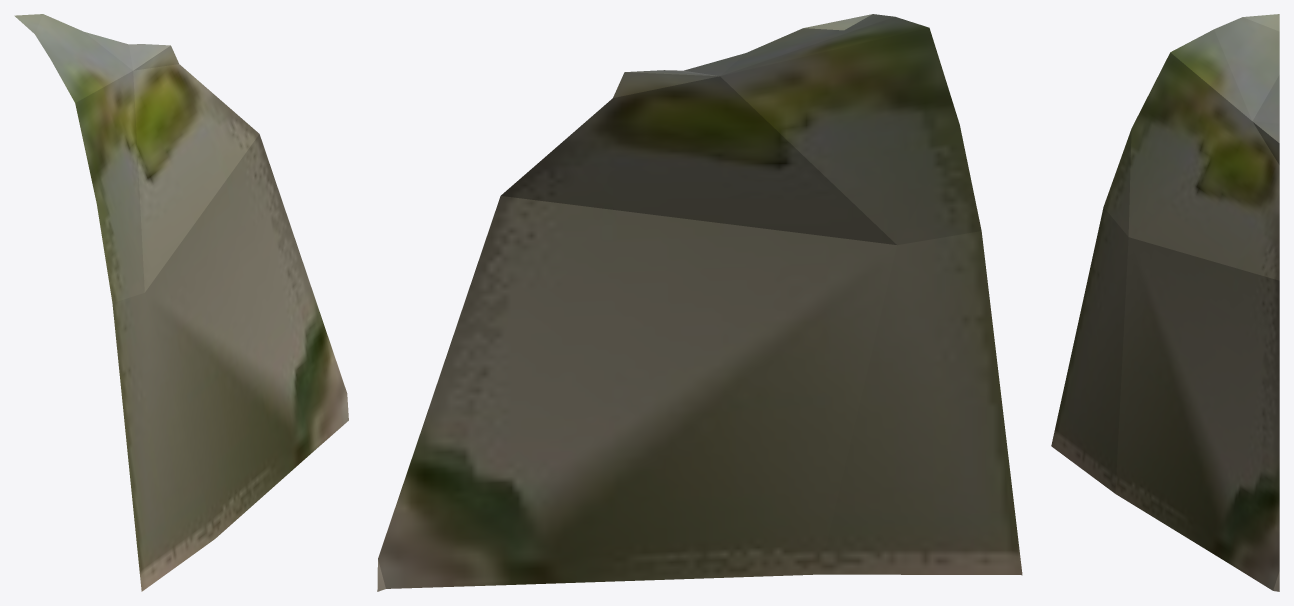
The picture shows the model from 3 angles, left to right: view 1: azimuth 30°, elevation 25°; view 2: azimuth 150°, elevation 25°; view 3: azimuth 270°, elevation 25°; orthographic projection. The views are drawn at different scales.
Bounding box in the file's own units: 0.5174 × 0.7158 × 0.3429.
Materials: 1 (1 with a texture image).
